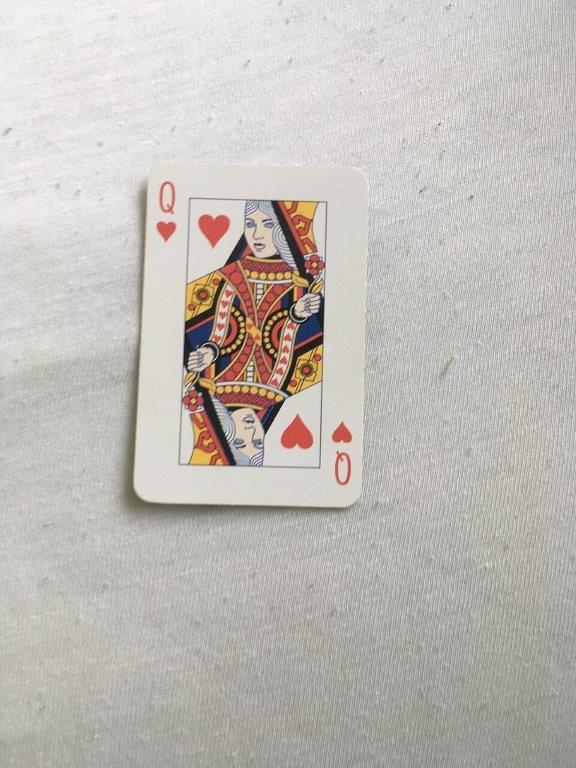QH: (128, 159, 371, 514)
